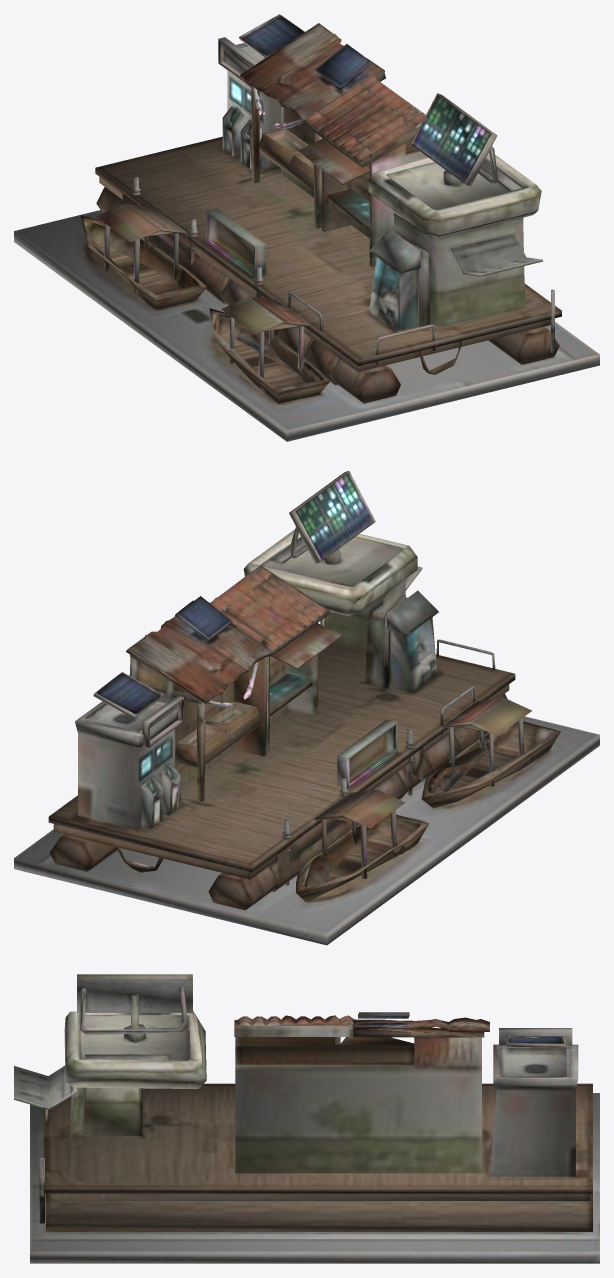
File: floating_market.glb
3 renders of one model, top to bottom at view 1: azimuth 30°, elevation 25°; view 2: azimuth 150°, elevation 25°; view 3: azimuth 270°, elevation 25°, orthographic. The views are drawn at different scales.
Parts seen in each view (by area): view 1: Body; view 2: Body; view 3: Body.
Part boxes in pixels (left/top/right/bottom): Body: left=14, top=14, right=599, bottom=441; Body: left=14, top=470, right=599, bottom=945; Body: left=14, top=974, right=599, bottom=1263.
Size of the model in its own units: 14 by 10.09 by 21.74.
Materials: 1 (1 with a texture image).
